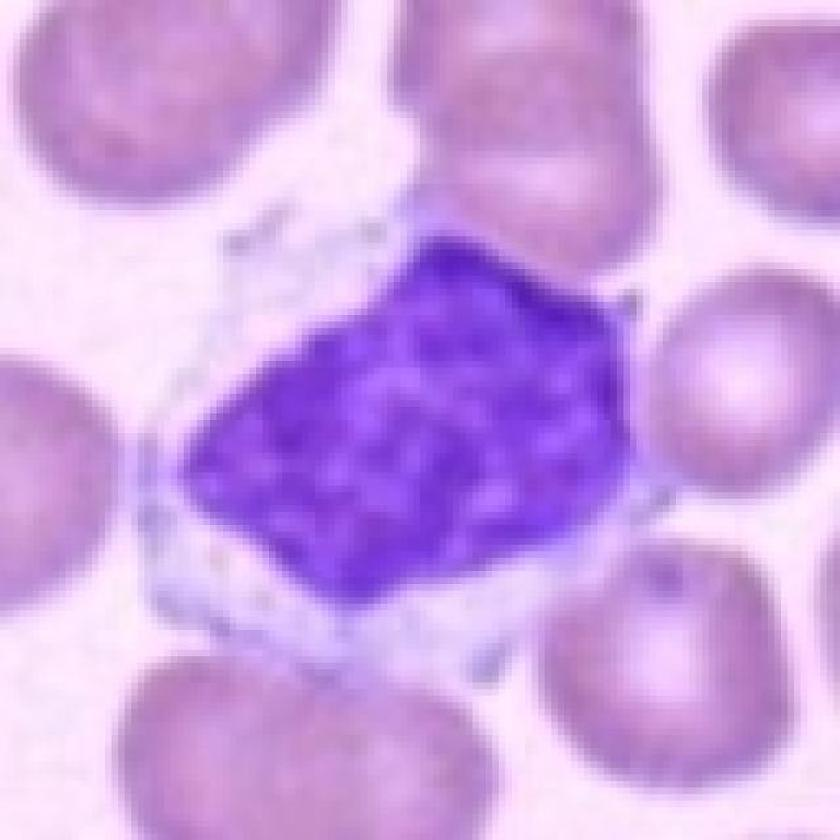lymphocyte: (126, 182, 673, 707)
